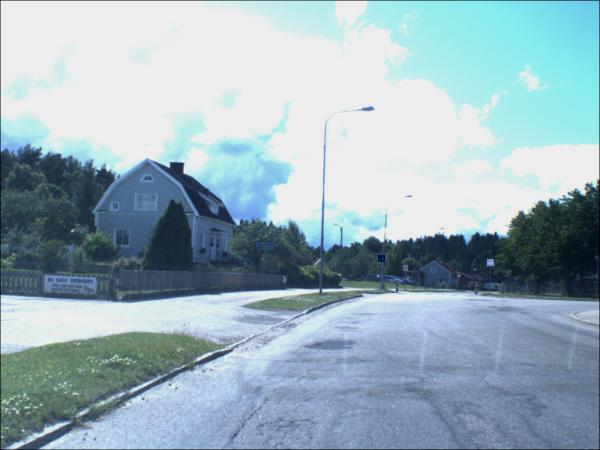NO_STOPPING_NO_STANDING: (403, 266, 409, 273)
PEDESTRIAN_CROSSING: (378, 256, 386, 264), (487, 261, 495, 269)
